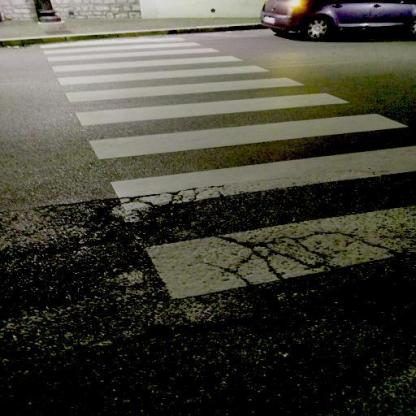crosswalk: (70, 90, 411, 168), (43, 43, 249, 75)
